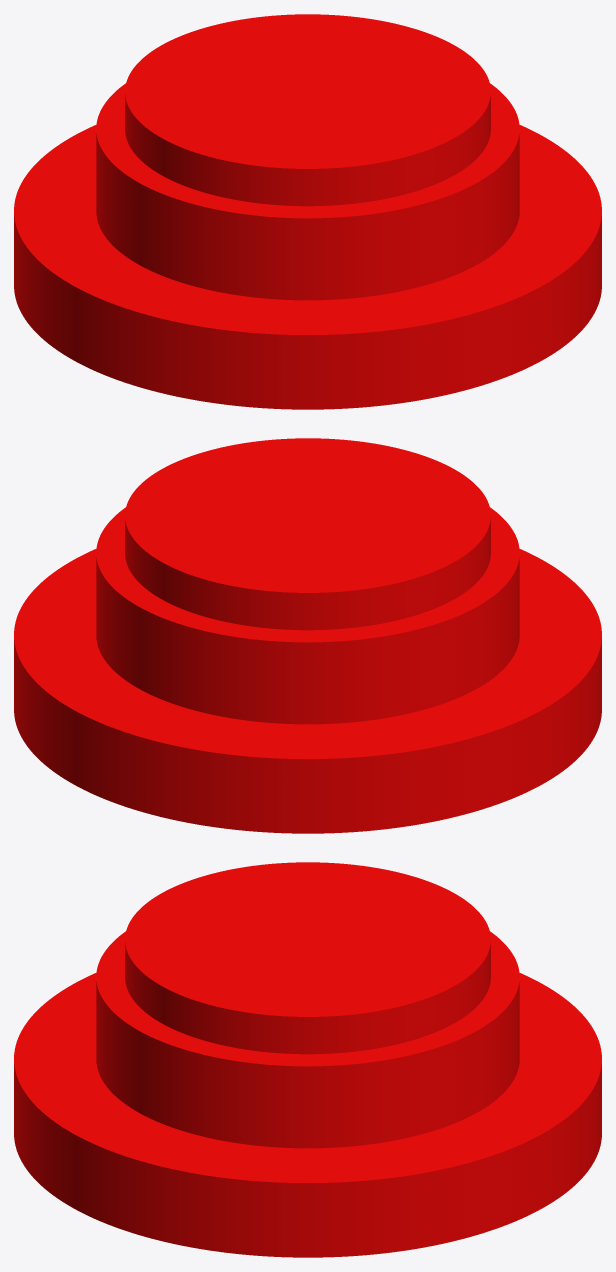
File: V5_SM1 Press Inner.obj
3 renders of one model, top to bottom at view 1: azimuth 30°, elevation 25°; view 2: azimuth 150°, elevation 25°; view 3: azimuth 270°, elevation 25°, orthographic.
Parts seen in each view (by area): view 1: Solid1:13; view 2: Solid1:13; view 3: Solid1:13.
Part boxes in pixels (box(x1,y1,x2,y2)): Solid1:13: box(14, 14, 601, 409); Solid1:13: box(14, 438, 601, 833); Solid1:13: box(14, 862, 601, 1257).
Bounding box in the file's own units: 35.75 × 13 × 35.75.
